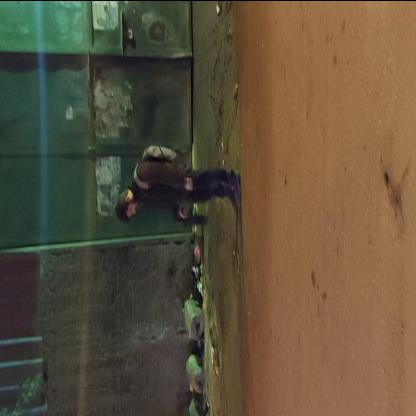long weapon: (169, 207, 216, 234)
